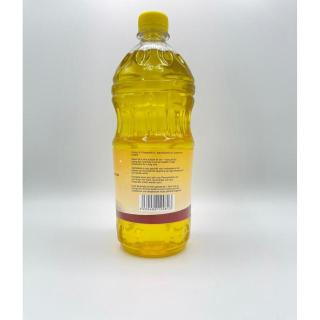Plastic-bottle: (109, 10, 200, 262)
